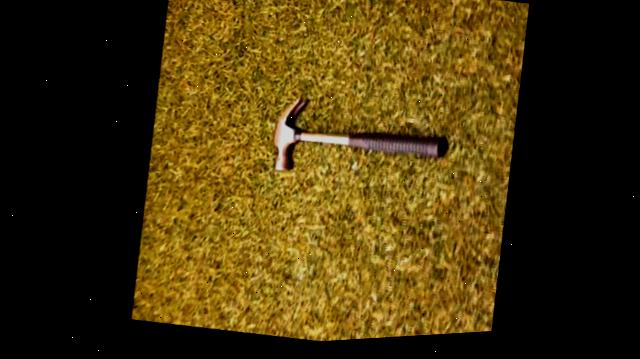hammer: (256, 78, 458, 208)
